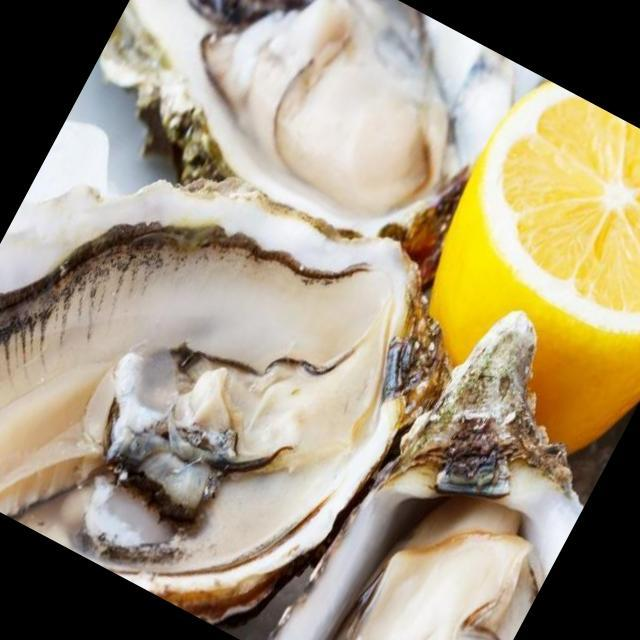Oyster-Open: (0, 68, 500, 640), (65, 0, 537, 303), (258, 274, 640, 640)
